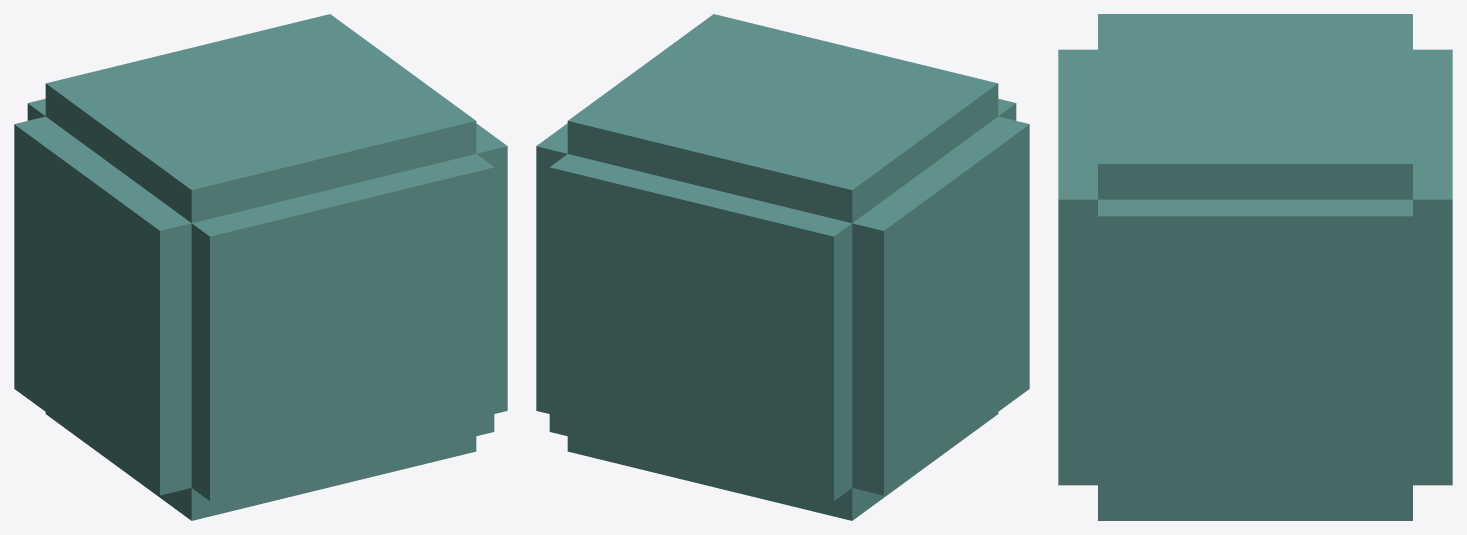
Rendered from counterweight.glb.
3 renders of one model, left to right at view 1: azimuth 30°, elevation 25°; view 2: azimuth 150°, elevation 25°; view 3: azimuth 270°, elevation 25°, orthographic. The views are drawn at different scales.
Size of the model in its own units: 11 by 10 by 10.
